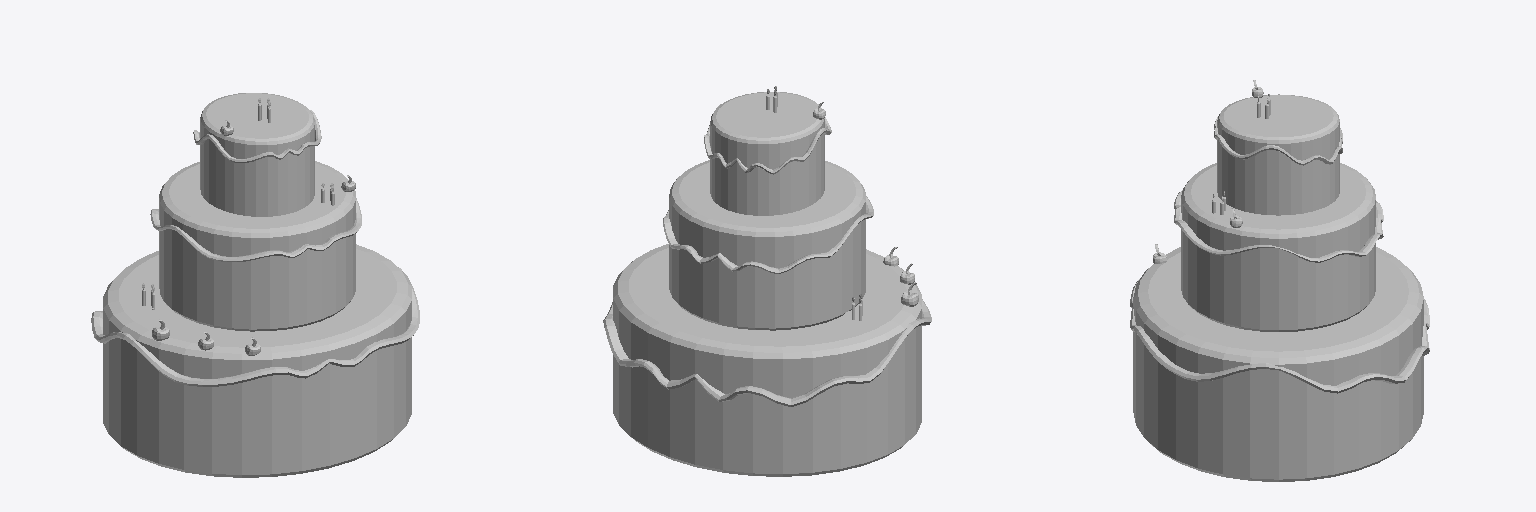
Rendered from Cake_2K_Texture_Model.obj.
3 renders of one model, left to right at view 1: azimuth 30°, elevation 25°; view 2: azimuth 150°, elevation 25°; view 3: azimuth 270°, elevation 25°, orthographic.
Parts seen in each view (by area): view 1: Deco; view 2: Deco; view 3: Deco.
Boxes of the visible parts, box(x1,y1,x2,y2) form: Deco: box(91, 93, 419, 477); Deco: box(603, 92, 931, 476); Deco: box(1130, 94, 1429, 481).
Size of the model in its own units: 7.66 by 8.53 by 7.14.